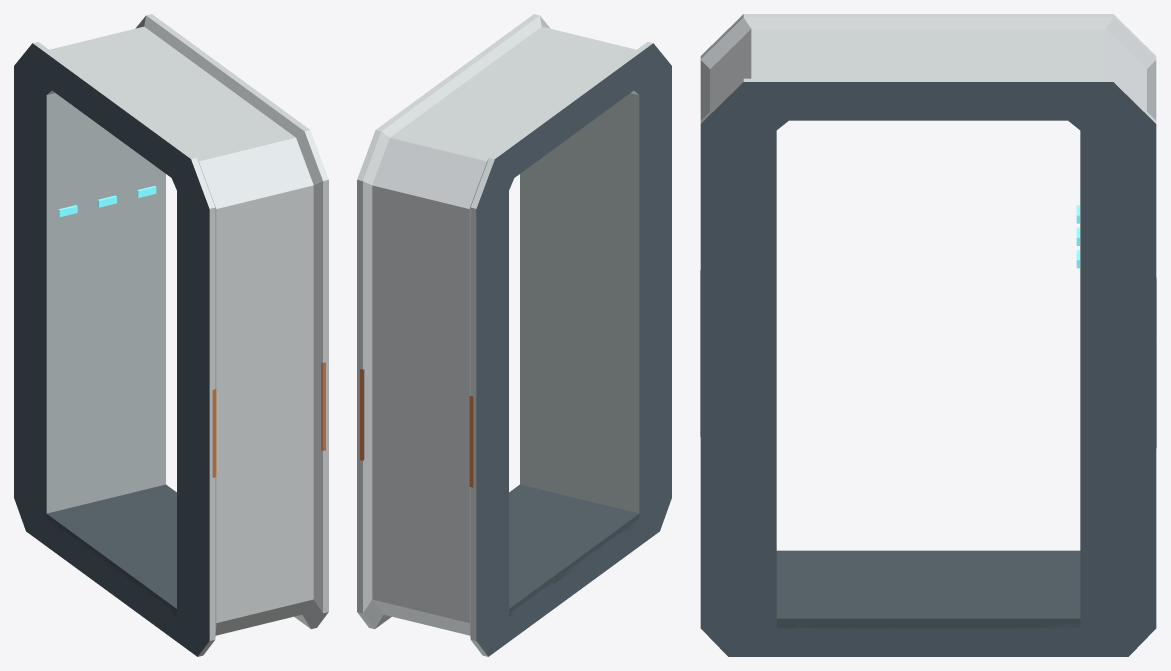
File: cor_l01_corto_transitable.glb
3 views of the same model, side by side, from view 1: azimuth 30°, elevation 25°; view 2: azimuth 150°, elevation 25°; view 3: azimuth 270°, elevation 25° (orthographic). The views are drawn at different scales.
Parts seen in each view (by area): view 1: COR_CORTO_COR_TR_CASCO_FRONTAL, COR_CORTO_COR_TR_CASCO_INFERIOR, COR_CORTO_COR_TR_CASCO_CUPULA, COR_CORTO_COR_TR_CASCO_DORSO, COR_CORTO_COR_TR_PISO, COR_CORTO_COR_TR_MARCAS_Y_GUIAS; view 2: COR_CORTO_COR_TR_CASCO_FRONTAL, COR_CORTO_COR_TR_CASCO_INFERIOR, COR_CORTO_COR_TR_CASCO_CUPULA, COR_CORTO_COR_TR_CASCO_DORSO, COR_CORTO_COR_TR_PISO, COR_CORTO_COR_TR_MARCAS_Y_GUIAS; view 3: COR_CORTO_COR_TR_CASCO_CUPULA, COR_CORTO_COR_TR_CASCO_INFERIOR, COR_CORTO_COR_TR_CASCO_FRONTAL, COR_CORTO_COR_TR_PISO, COR_CORTO_COR_TR_CASCO_DORSO.
Boxes of the visible parts, bbox=[...] form: COR_CORTO_COR_TR_CASCO_FRONTAL: bbox=[169, 218, 328, 656]; COR_CORTO_COR_TR_CASCO_INFERIOR: bbox=[14, 201, 174, 639]; COR_CORTO_COR_TR_CASCO_CUPULA: bbox=[28, 14, 328, 257]; COR_CORTO_COR_TR_CASCO_DORSO: bbox=[14, 21, 165, 230]; COR_CORTO_COR_TR_PISO: bbox=[46, 484, 176, 616]; COR_CORTO_COR_TR_MARCAS_Y_GUIAS: bbox=[58, 186, 325, 477]; COR_CORTO_COR_TR_CASCO_FRONTAL: bbox=[520, 105, 671, 547]; COR_CORTO_COR_TR_CASCO_INFERIOR: bbox=[357, 320, 637, 656]; COR_CORTO_COR_TR_CASCO_CUPULA: bbox=[371, 14, 671, 194]; COR_CORTO_COR_TR_CASCO_DORSO: bbox=[357, 142, 508, 349]; COR_CORTO_COR_TR_PISO: bbox=[509, 484, 639, 616]; COR_CORTO_COR_TR_MARCAS_Y_GUIAS: bbox=[360, 369, 473, 487]; COR_CORTO_COR_TR_CASCO_CUPULA: bbox=[700, 14, 1123, 208]; COR_CORTO_COR_TR_CASCO_INFERIOR: bbox=[780, 288, 1156, 656]; COR_CORTO_COR_TR_CASCO_FRONTAL: bbox=[700, 105, 791, 656]; COR_CORTO_COR_TR_PISO: bbox=[776, 550, 1080, 628]; COR_CORTO_COR_TR_CASCO_DORSO: bbox=[1080, 24, 1156, 288].
Bounding box in the file's own units: 0.635 × 2.51 × 1.8.
